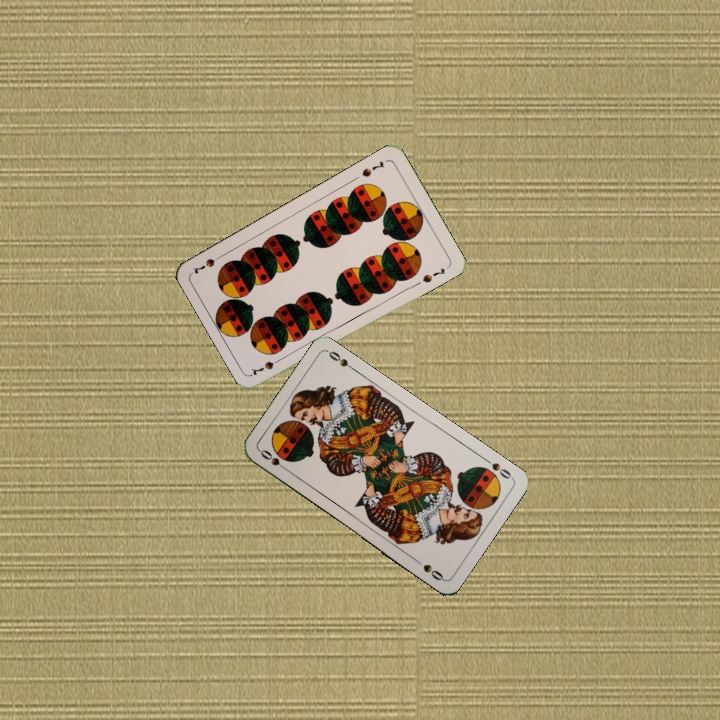S7: (248, 353, 286, 378), (358, 157, 387, 180)
SO: (256, 446, 292, 475), (480, 454, 515, 482)
